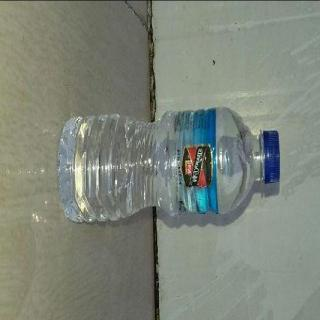Anorganik: (55, 102, 283, 228)
